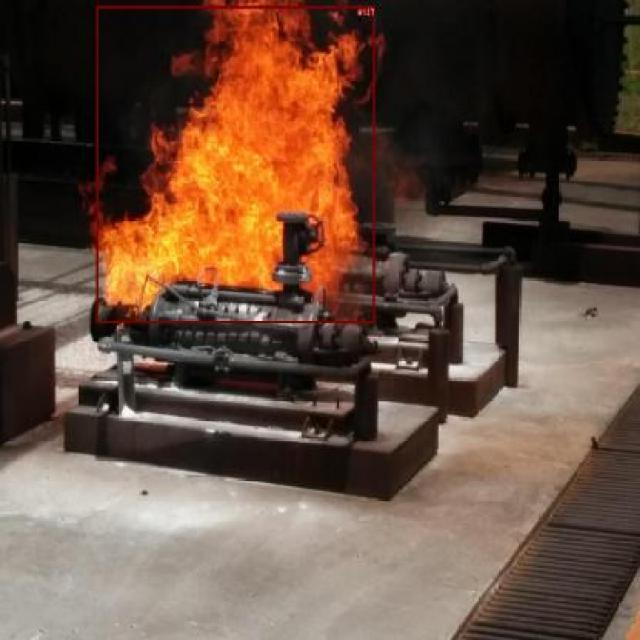Fire: (97, 5, 376, 322)
